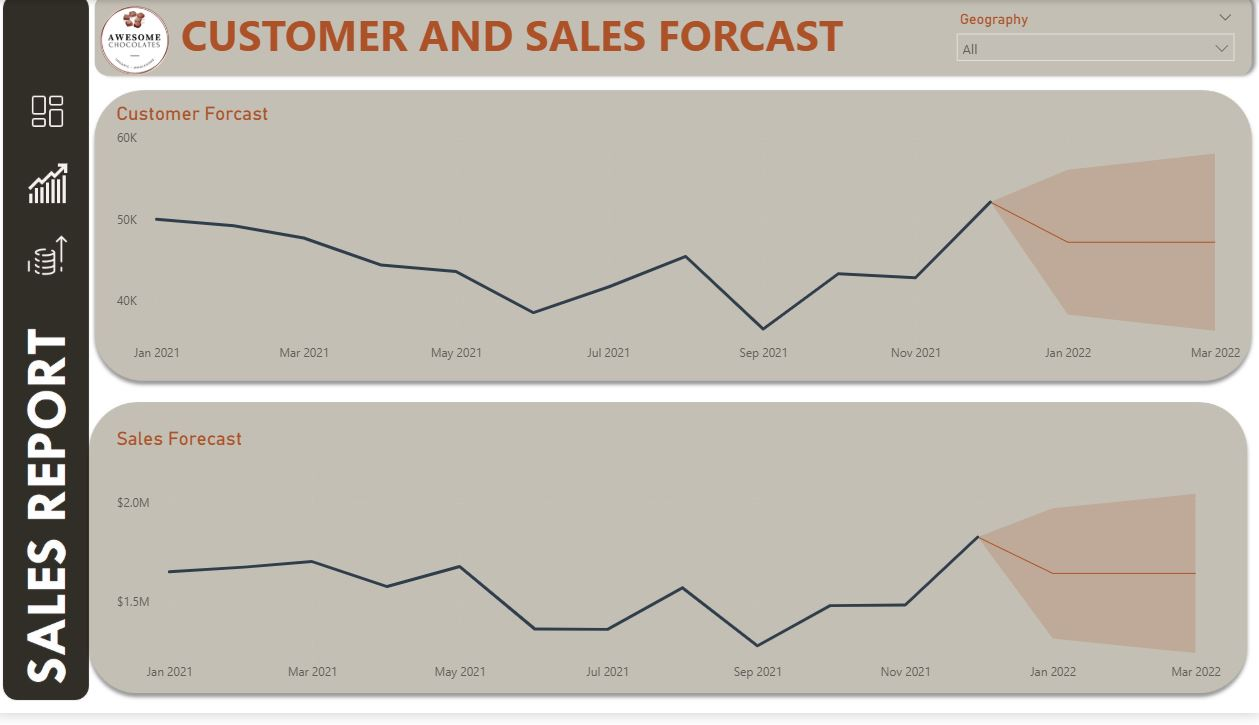

What the dashboard file says about the page in this screenshot:
{"tool":"powerbi","page":{"name":"Future Forcast","canvas":[1280,720],"ordinal":2},"visuals":[{"type":"lineChart","title":"Customer Forcast","fields":{"Category":["sales.Date.Variation.Date Hierarchy.Year","sales.Date.Variation.Date Hierarchy.Quarter","sales.Date.Variation.Date Hierarchy.Month","sales.Date.Variation.Date Hierarchy.Day"],"Y":["sales.Total Customers"]},"box":[119.6,103,1144.7,271],"z":0},{"type":"lineChart","title":"Sales Forecast","fields":{"Category":["sales.Date.Variation.Date Hierarchy.Year","sales.Date.Variation.Date Hierarchy.Quarter","sales.Date.Variation.Date Hierarchy.Month","sales.Date.Variation.Date Hierarchy.Day"],"Y":["sales.Total Amount"]},"box":[119.6,431.5,1125.1,265],"z":1000},{"type":"image","box":[62.1,6.1,162,69.7],"z":2000},{"type":"textbox","box":[184.7,0,760.1,75.7],"z":3000},{"type":"slicer","fields":{"Values":["sales.Geography"]},"box":[963,6.1,299.8,60.6],"z":4000},{"type":"image","box":[19.7,92.4,70,40],"z":4001},{"type":"image","box":[19.7,165,70,40],"z":4002},{"type":"image","box":[19.7,237.7,70,40],"z":4003}]}

Visuals, with their boxes on the page's 1280x720 design canvas (x1, y1, x2, y2). These are canvas units, not pixel positions in the 1259x725 screenshot, which may show the page scaled, cropped or inside an application window:
"Customer Forcast" lineChart: BBox(120, 103, 1264, 374)
"Sales Forecast" lineChart: BBox(120, 432, 1245, 696)
image: BBox(62, 6, 224, 76)
textbox: BBox(185, 0, 945, 76)
slicer - sales.Geography: BBox(963, 6, 1263, 67)
image: BBox(20, 92, 90, 132)
image: BBox(20, 165, 90, 205)
image: BBox(20, 238, 90, 278)
